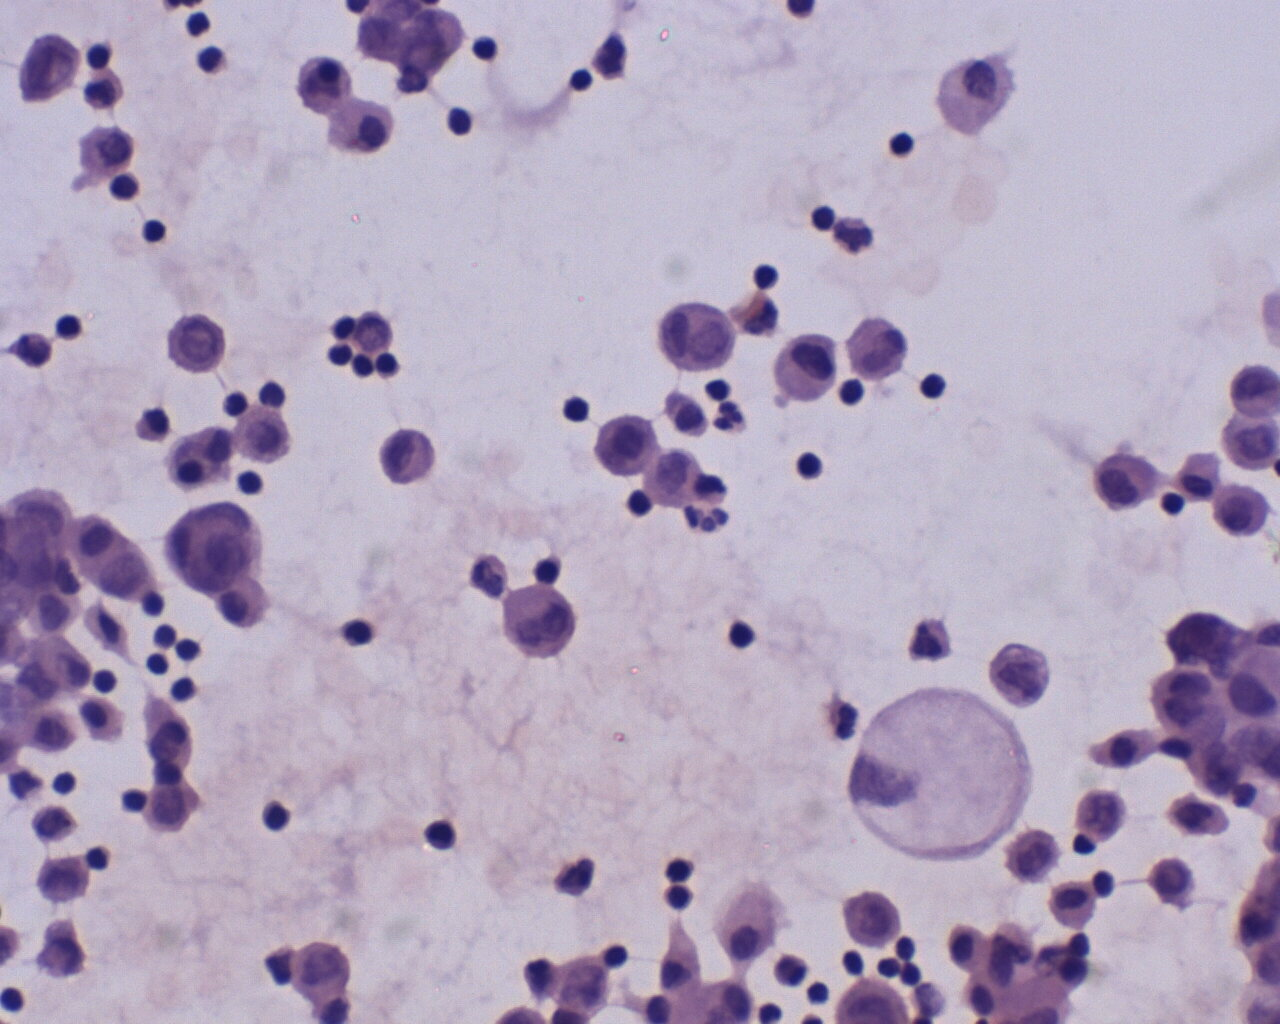ab: (850, 685, 1032, 866), (157, 498, 266, 594), (5, 28, 77, 107), (843, 885, 911, 954), (285, 939, 353, 1002), (167, 311, 228, 374)
lymph: (116, 781, 152, 821), (257, 799, 296, 836), (53, 309, 89, 347), (723, 618, 762, 652), (104, 171, 143, 204), (791, 450, 824, 487), (463, 33, 504, 62), (136, 216, 169, 250), (425, 818, 459, 851), (447, 104, 479, 139), (43, 767, 78, 797), (916, 369, 949, 399), (1159, 487, 1188, 520), (558, 394, 590, 423), (885, 132, 917, 160), (749, 263, 779, 293)
meso: (932, 49, 1020, 141), (705, 881, 781, 963), (772, 328, 839, 408), (324, 93, 394, 159), (595, 409, 656, 478), (1211, 479, 1273, 542), (231, 405, 290, 466), (1045, 880, 1099, 931)
neutro: (714, 399, 751, 436)
